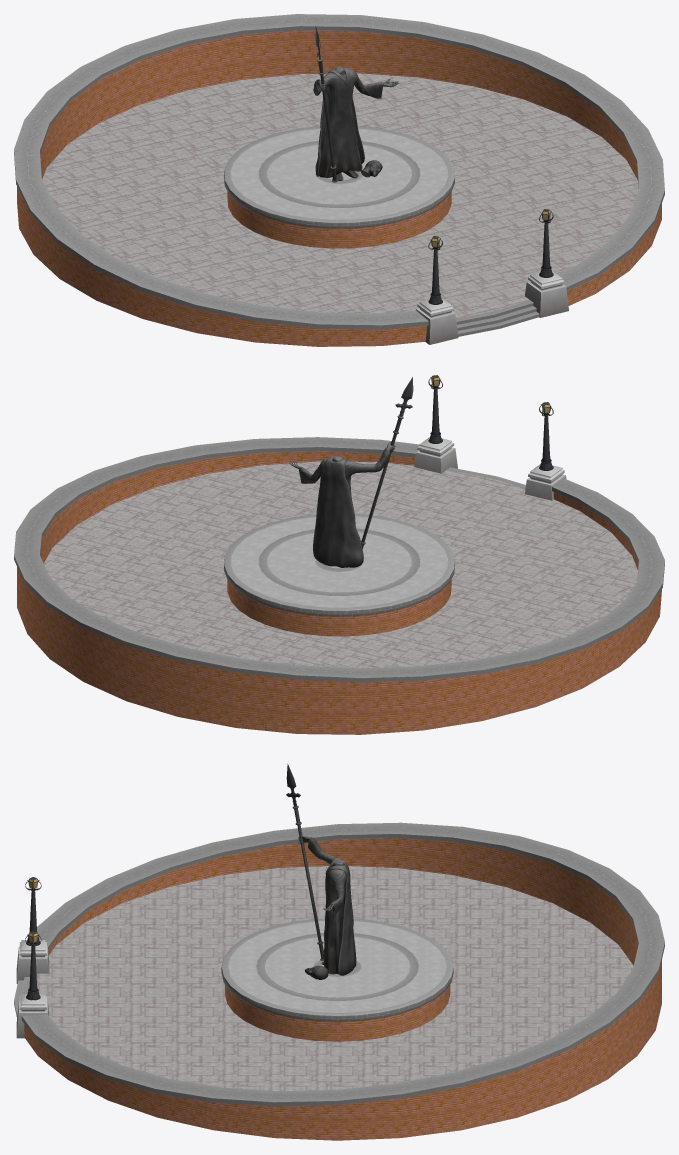
File: Plaza_Estatua_Jerrod.fbx
3 views of the same model, one above another, from view 1: azimuth 30°, elevation 25°; view 2: azimuth 150°, elevation 25°; view 3: azimuth 270°, elevation 25° (orthographic).
Visible parts, largest first — view 1: Estatua_LOD0; view 2: Estatua_LOD0; view 3: Estatua_LOD0.
Part boxes in pixels (x1=…): Estatua_LOD0: x1=14, y1=14, x2=664, y2=346; Estatua_LOD0: x1=14, y1=375, x2=664, y2=734; Estatua_LOD0: x1=14, y1=763, x2=664, y2=1140.
Size of what is drawn, in the model's own units: 2817 by 1030 by 2801.
